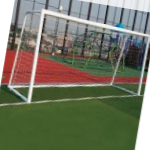goals: (8, 9, 150, 102)
